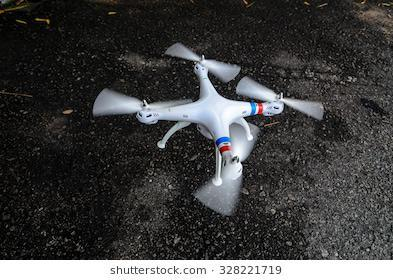drone: (91, 40, 324, 216)
